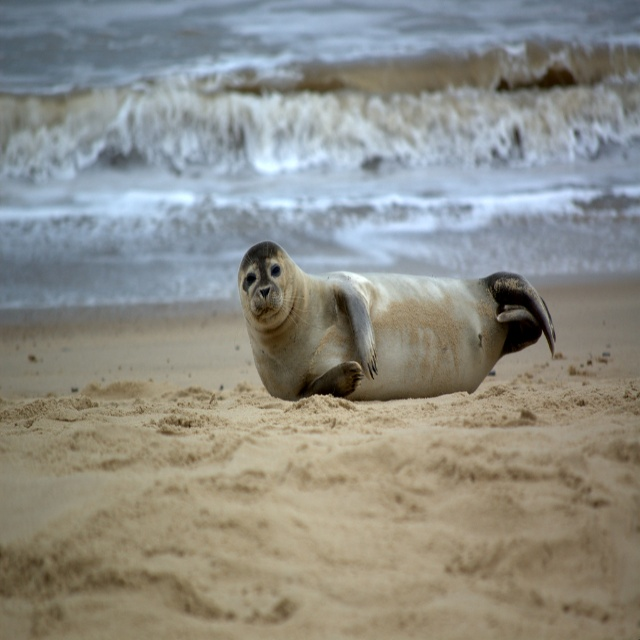Harbor seal: (238, 245, 559, 397)
